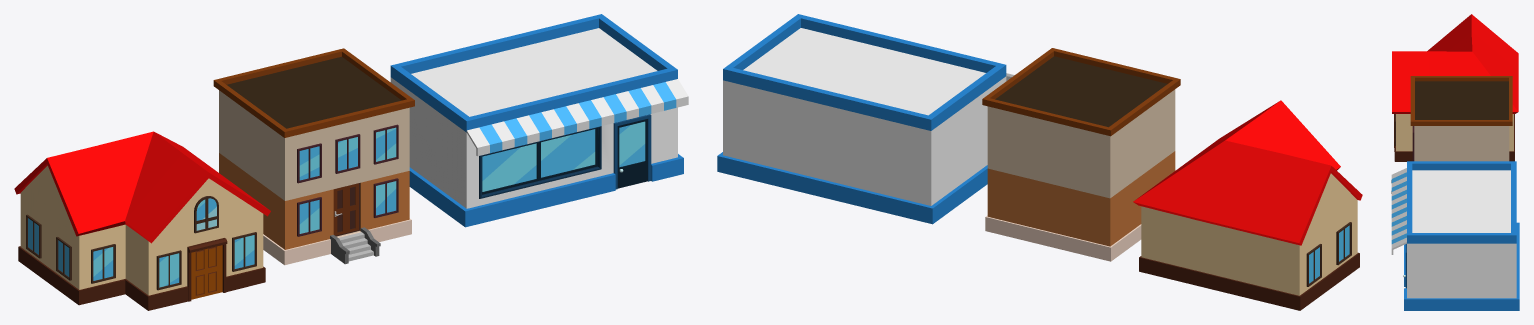
Rendered from Pandazole Simple Game1.fbx.
3 views of the same model, side by side, from view 1: azimuth 30°, elevation 25°; view 2: azimuth 150°, elevation 25°; view 3: azimuth 270°, elevation 25° (orthographic). The views are drawn at different scales.
Parts seen in each view (by area): view 1: Env_CommercialBuilding_01, Env_ResidentBuilding_01, Env_Motel_01; view 2: Env_CommercialBuilding_01, Env_Motel_01, Env_ResidentBuilding_01; view 3: Env_CommercialBuilding_01, Env_Motel_01, Env_ResidentBuilding_01.
Part boxes in pixels (x1=…): Env_CommercialBuilding_01: x1=390, y1=14, x2=688, y2=227; Env_ResidentBuilding_01: x1=14, y1=131, x2=270, y2=310; Env_Motel_01: x1=213, y1=48, x2=414, y2=265; Env_CommercialBuilding_01: x1=717, y1=14, x2=1014, y2=224; Env_Motel_01: x1=982, y1=48, x2=1180, y2=261; Env_ResidentBuilding_01: x1=1133, y1=100, x2=1362, y2=310; Env_CommercialBuilding_01: x1=1391, y1=161, x2=1519, y2=310; Env_Motel_01: x1=1391, y1=76, x2=1512, y2=193; Env_ResidentBuilding_01: x1=1392, y1=14, x2=1518, y2=161.
Bounding box in the file's own units: 2681 × 585 × 703.
3 materials, 3 textured.
